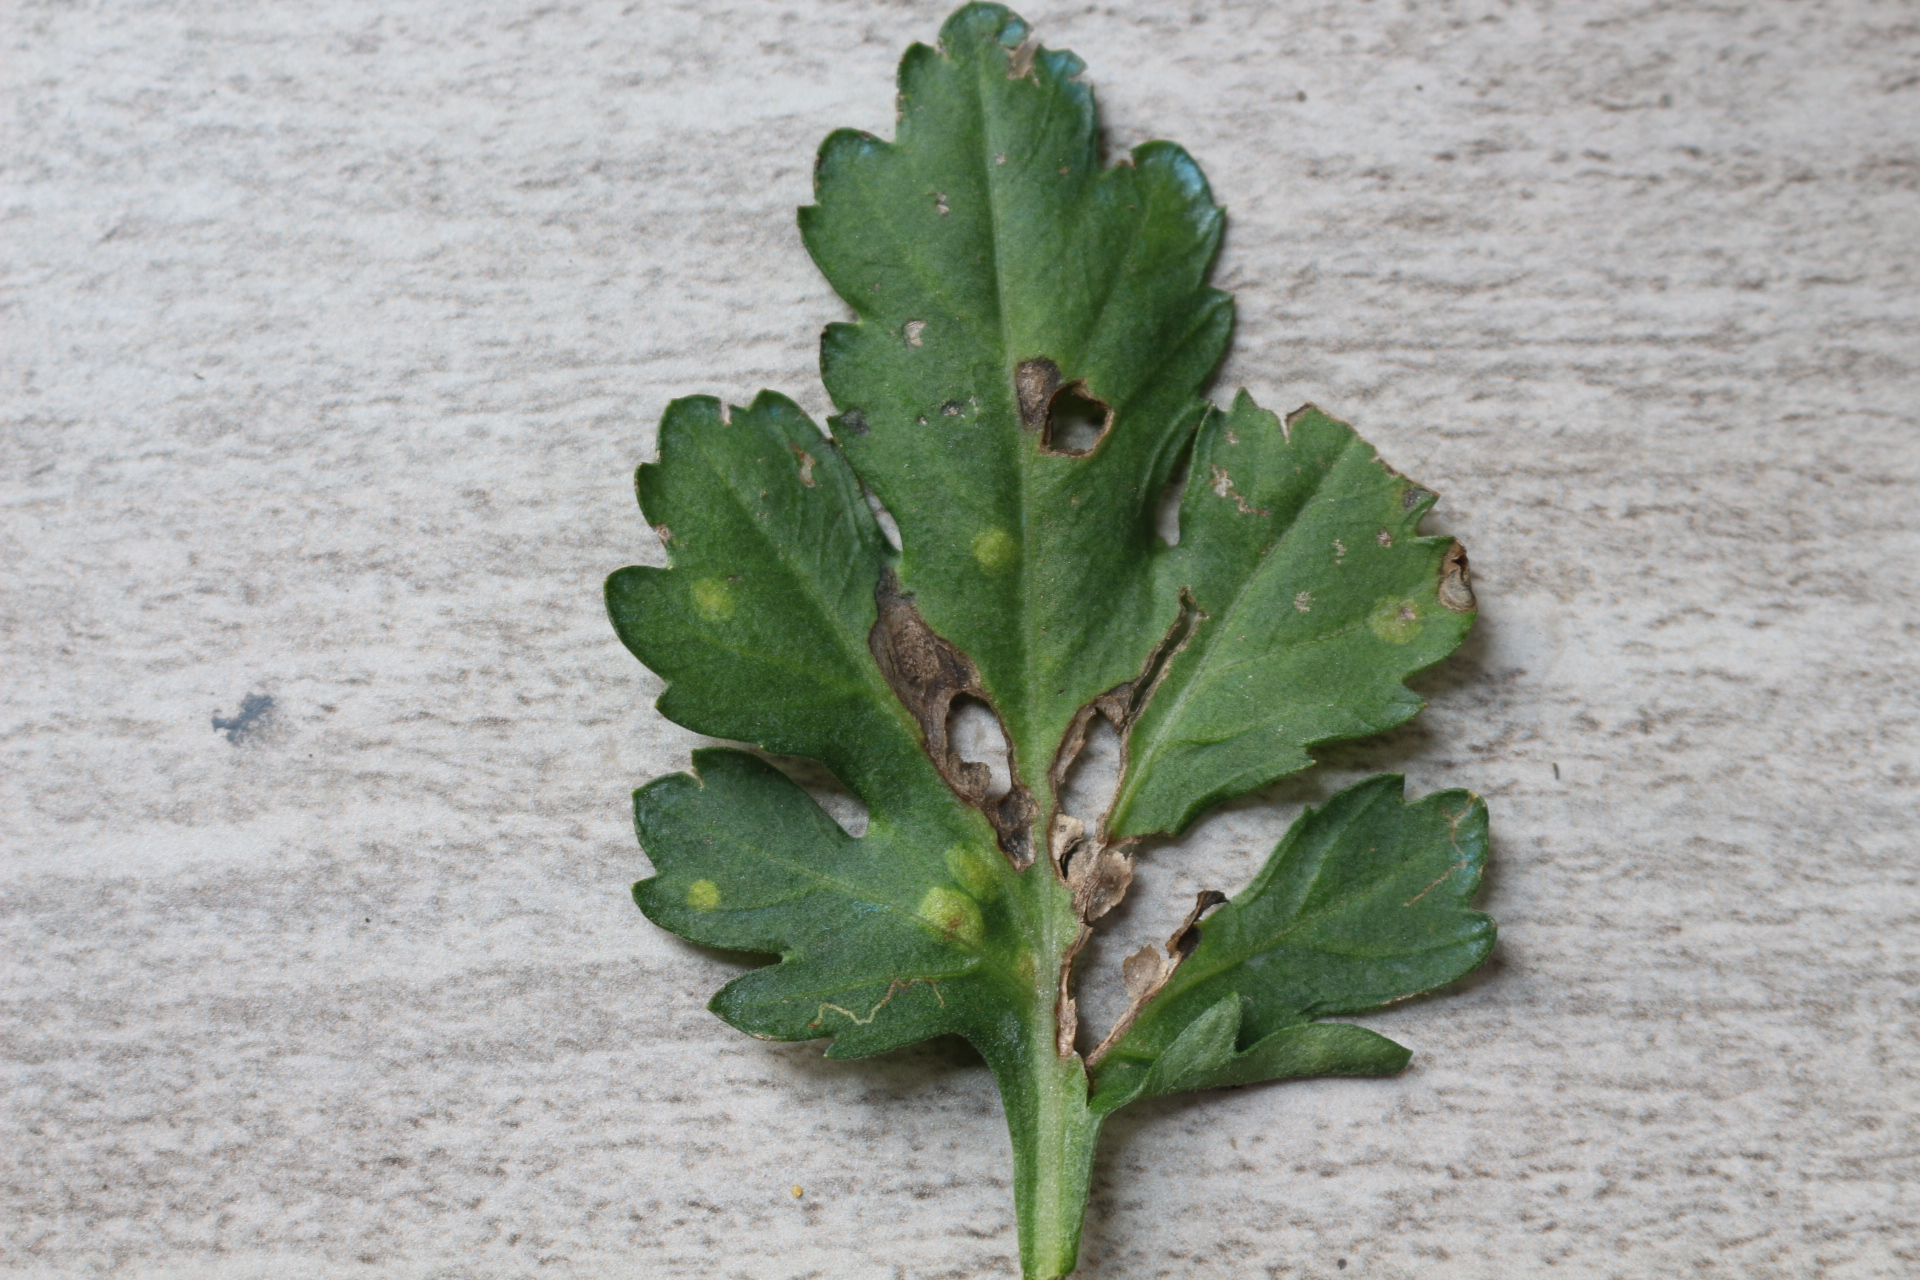namsung: (917, 891, 1003, 953), (941, 841, 1020, 899), (1370, 589, 1429, 644), (970, 526, 1021, 579), (680, 874, 734, 921), (693, 581, 739, 627)
